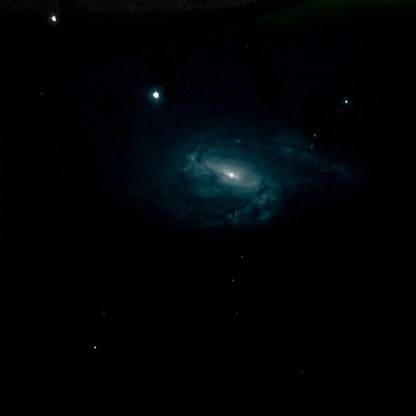Messier 66: (130, 85, 345, 245)
